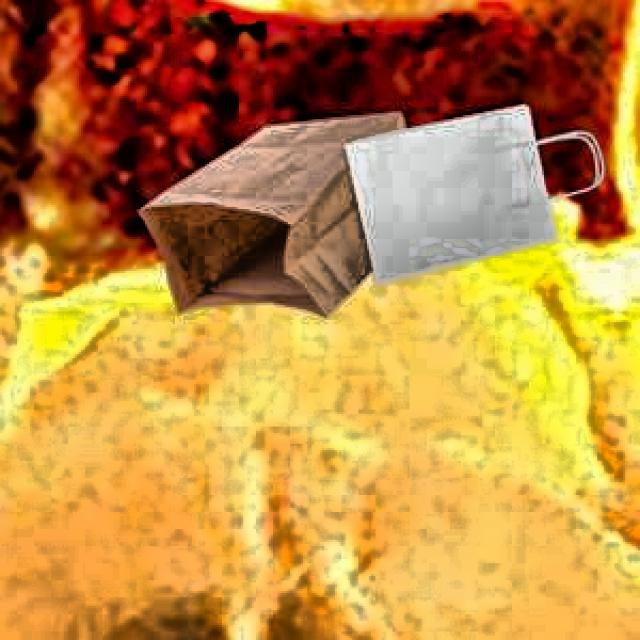Paper-bag: (116, 103, 432, 330), (348, 100, 610, 288)
